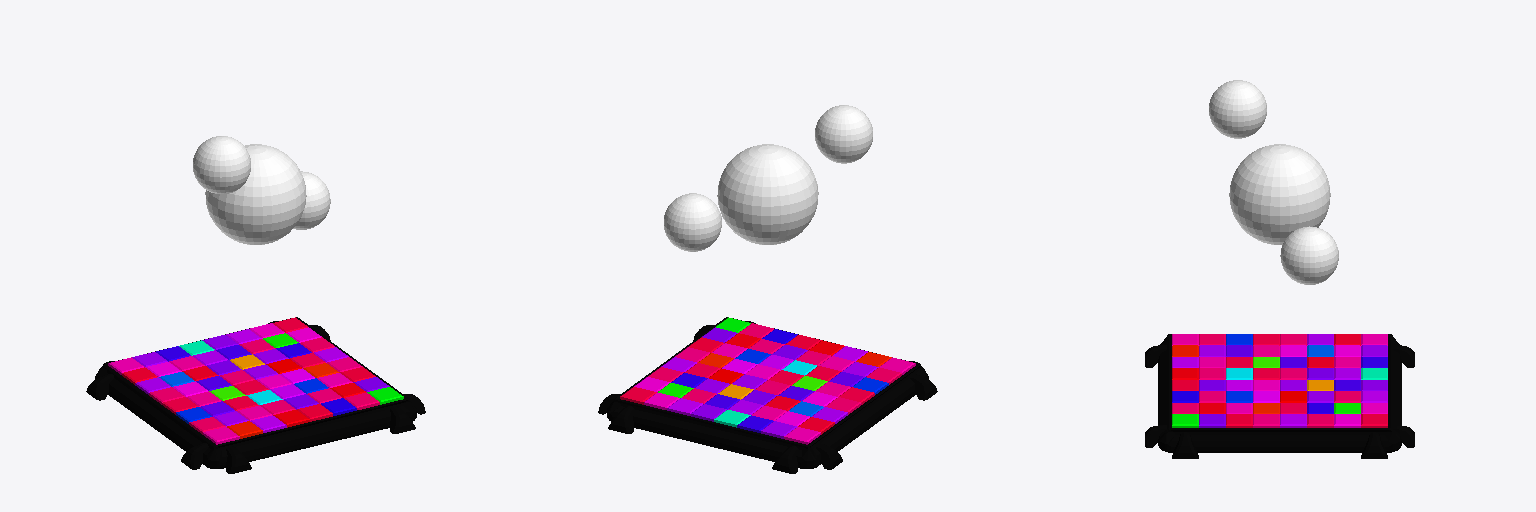
File: board.obj
3 views of the same model, side by side, from view 1: azimuth 30°, elevation 25°; view 2: azimuth 150°, elevation 25°; view 3: azimuth 270°, elevation 25° (orthographic).
Visible parts, largest first — view 1: Cube, Sphere, Sphere.001, Sphere.002; view 2: Sphere, Cube, Sphere.002, Sphere.001; view 3: Sphere, Cube, Sphere.001, Sphere.002.
Boxes of the visible parts, x1,y1,x2,y2 form: Cube: [95, 317, 416, 468]; Sphere: [205, 144, 306, 244]; Sphere.001: [193, 136, 250, 193]; Sphere.002: [293, 171, 330, 229]; Sphere: [717, 144, 818, 244]; Cube: [607, 317, 928, 468]; Sphere.002: [664, 193, 721, 251]; Sphere.001: [815, 105, 872, 163]; Sphere: [1229, 144, 1330, 244]; Cube: [1158, 334, 1401, 452]; Sphere.001: [1209, 80, 1266, 138]; Sphere.002: [1280, 226, 1338, 284].
Size of the model in its own units: 20 by 23.9 by 20.